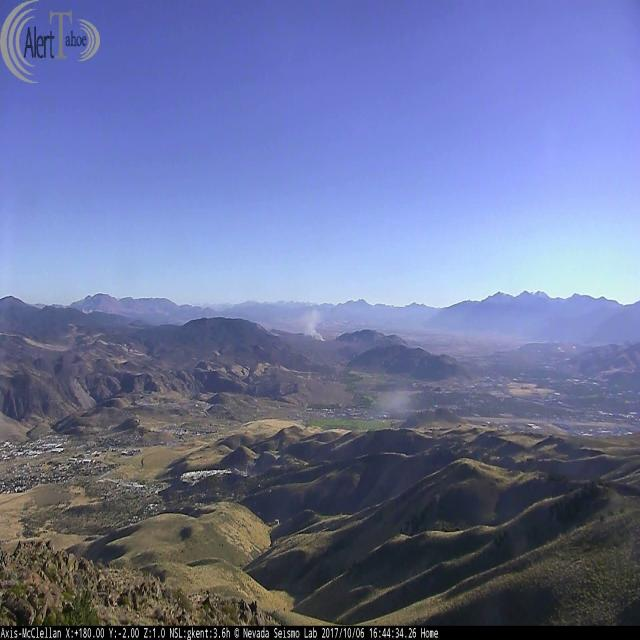smoke: (292, 303, 331, 345)
